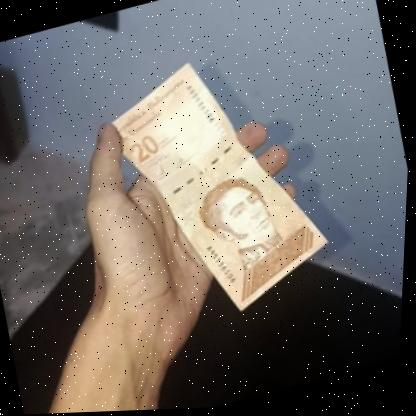twenty-front-vef: (96, 34, 348, 339)
